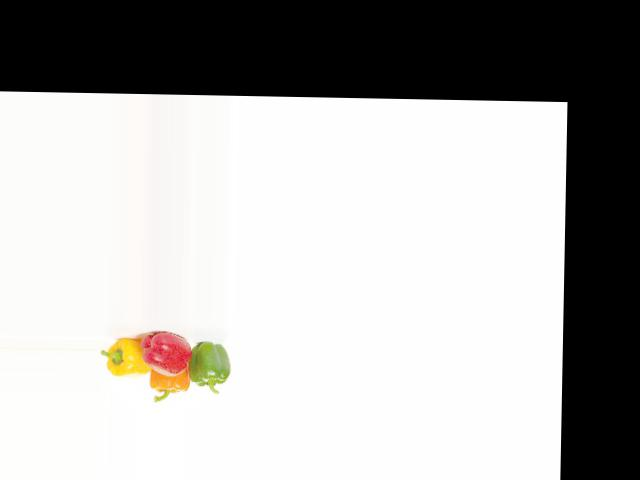bell_pepper: (185, 334, 231, 390)
